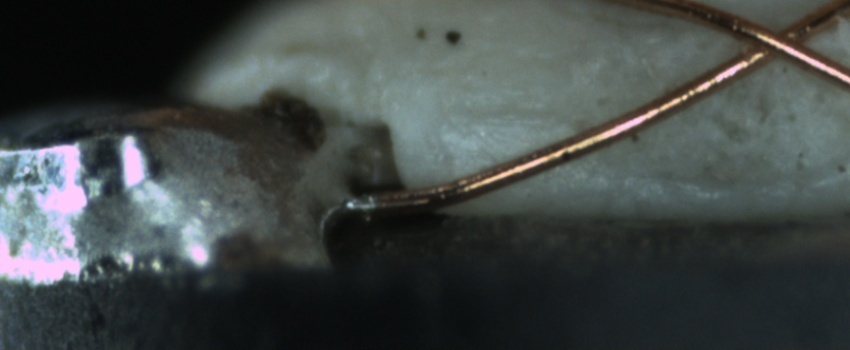CL: (722, 6, 835, 77)
DL: (441, 84, 570, 148)
TS: (341, 193, 377, 219)
